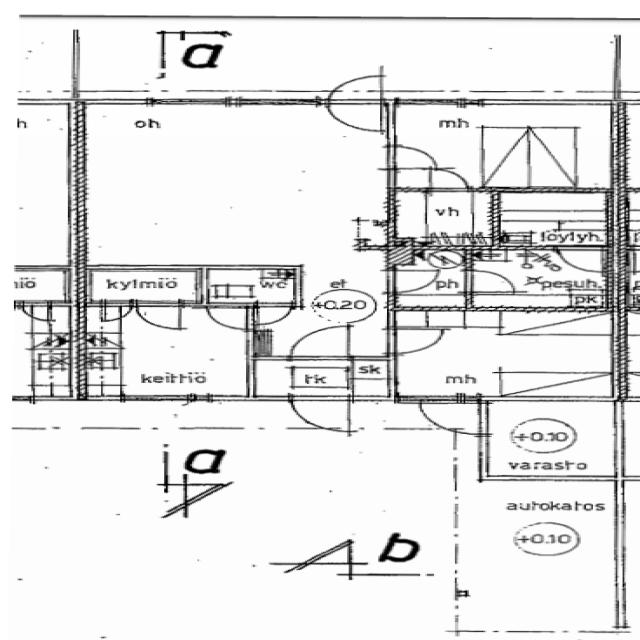door: (320, 73, 390, 135), (285, 323, 354, 363), (286, 393, 352, 432), (414, 398, 480, 434), (387, 326, 449, 355), (132, 301, 185, 332), (552, 246, 610, 274), (386, 268, 446, 295), (386, 142, 441, 171), (463, 268, 519, 295), (203, 304, 253, 332), (424, 166, 474, 193), (250, 302, 294, 327), (19, 302, 56, 322), (98, 303, 132, 323), (94, 332, 125, 348)
window: (605, 400, 631, 472)
zone: (83, 103, 381, 273), (389, 309, 616, 400), (391, 102, 621, 190), (80, 307, 254, 400), (481, 402, 622, 479), (470, 244, 614, 306), (488, 190, 614, 246), (252, 356, 397, 402), (388, 190, 496, 244), (81, 268, 205, 304), (202, 268, 296, 304), (553, 246, 610, 274)
